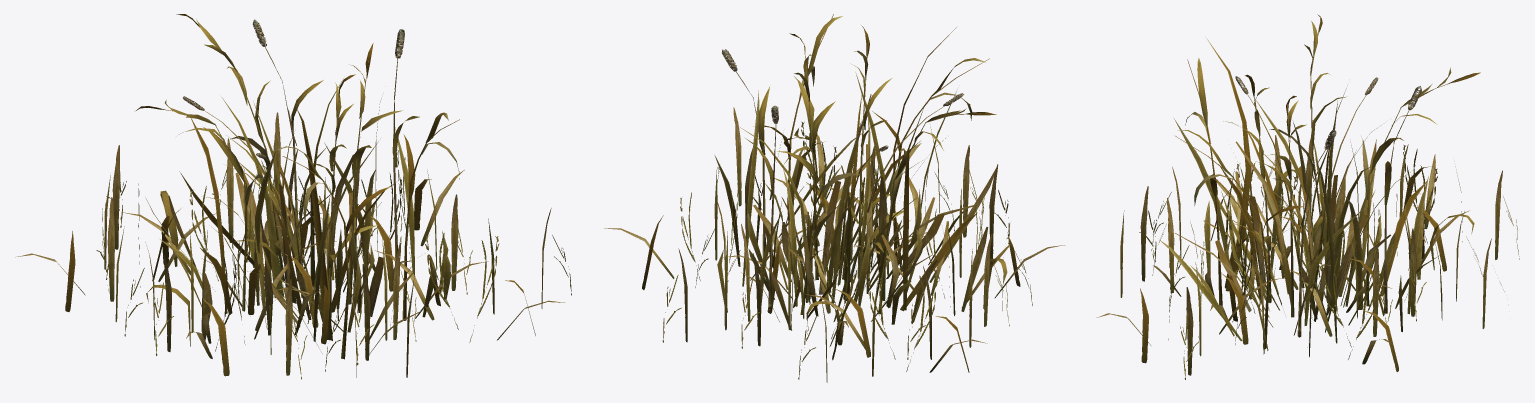
The model's file is Inst_grass01.fbx.
The picture shows the model from 3 angles, left to right: view 1: azimuth 30°, elevation 25°; view 2: azimuth 150°, elevation 25°; view 3: azimuth 270°, elevation 25°; orthographic projection. The views are drawn at different scales.
Parts seen in each view (by area): view 1: SM_COM_Grass01.mo; view 2: SM_COM_Grass01.mo; view 3: SM_COM_Grass01.mo.
Part boxes in pixels (<box>): SM_COM_Grass01.mo: <box>15,14,571,379</box>; SM_COM_Grass01.mo: <box>604,14,1064,382</box>; SM_COM_Grass01.mo: <box>1096,14,1519,379</box>.
Size of the model in its own units: 200 by 122 by 187.
